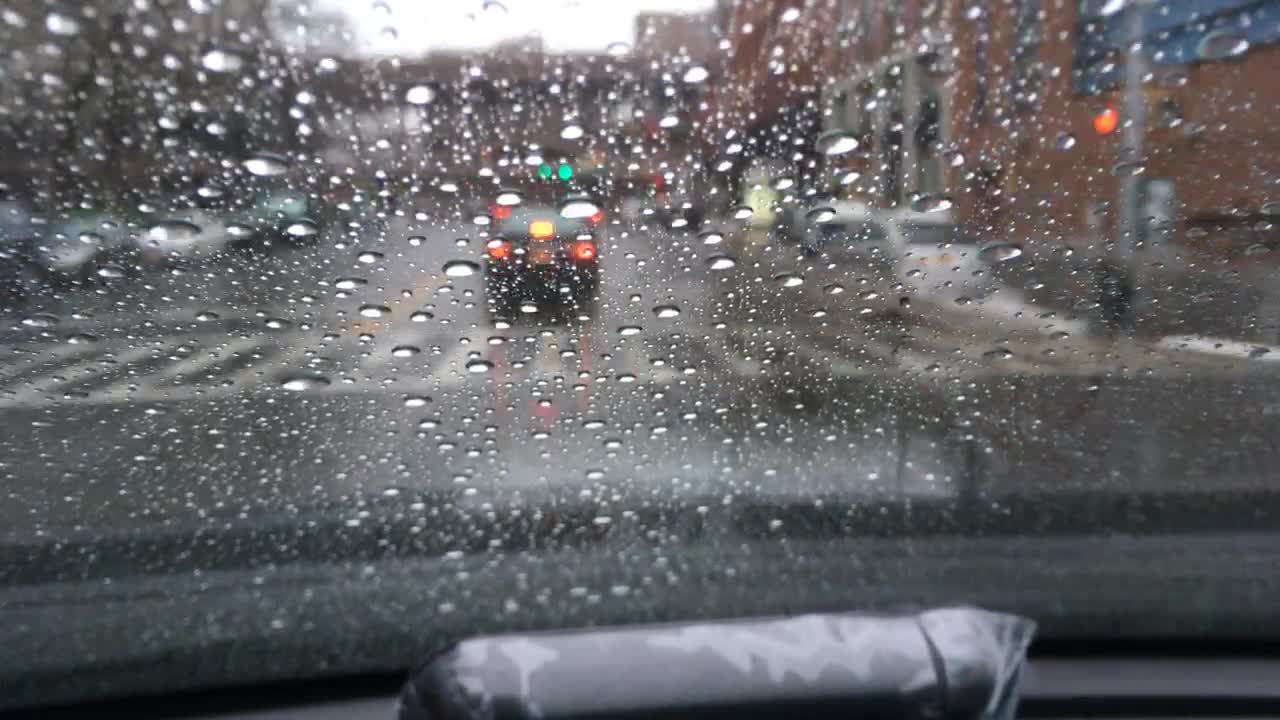car: (797, 215, 998, 306), (481, 202, 600, 315), (47, 209, 158, 280), (0, 202, 64, 305), (134, 208, 244, 267), (766, 196, 867, 247), (237, 190, 324, 247), (660, 194, 707, 234)
traffic light: (1139, 98, 1187, 140), (1095, 102, 1126, 145), (556, 159, 576, 182), (536, 157, 551, 180)
